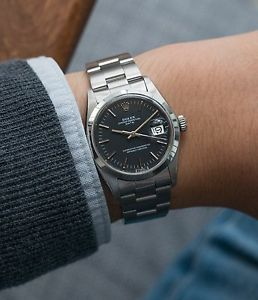clock: (92, 95, 174, 175)
